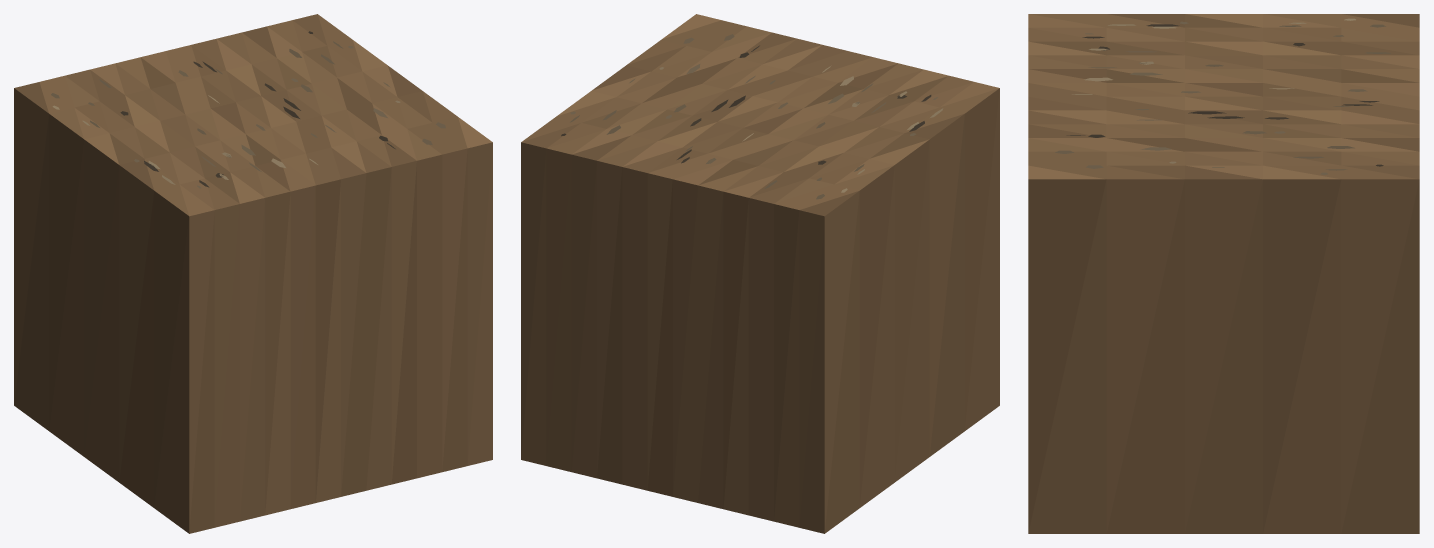
Rendered from terrain-rest-c99e6d.glb.
The picture shows the model from 3 angles, left to right: view 1: azimuth 30°, elevation 25°; view 2: azimuth 150°, elevation 25°; view 3: azimuth 270°, elevation 25°; orthographic projection. The views are drawn at different scales.
Visible parts, largest first — view 1: terrain-rest-c99e6d; view 2: terrain-rest-c99e6d; view 3: terrain-rest-c99e6d.
Part boxes in pixels (x1=…): terrain-rest-c99e6d: x1=14, y1=14, x2=492, y2=533; terrain-rest-c99e6d: x1=521, y1=14, x2=999, y2=533; terrain-rest-c99e6d: x1=1028, y1=14, x2=1419, y2=533.
Size of the model in its own units: 1 by 1 by 1.
